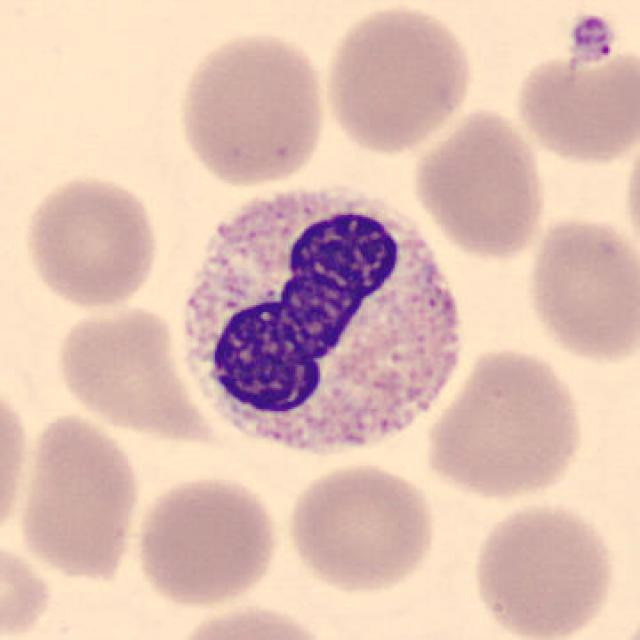Neutrophil: (166, 168, 477, 482)
Platelets: (565, 11, 617, 64)
RBC: (420, 342, 588, 503), (172, 28, 330, 190), (318, 2, 476, 157), (14, 407, 144, 584), (409, 104, 551, 263), (466, 497, 620, 640), (283, 458, 441, 596), (130, 471, 282, 610), (52, 298, 199, 439), (18, 171, 164, 312), (523, 210, 638, 368), (510, 48, 638, 166), (164, 599, 338, 640), (0, 540, 55, 638), (0, 379, 32, 543), (620, 122, 640, 270)
